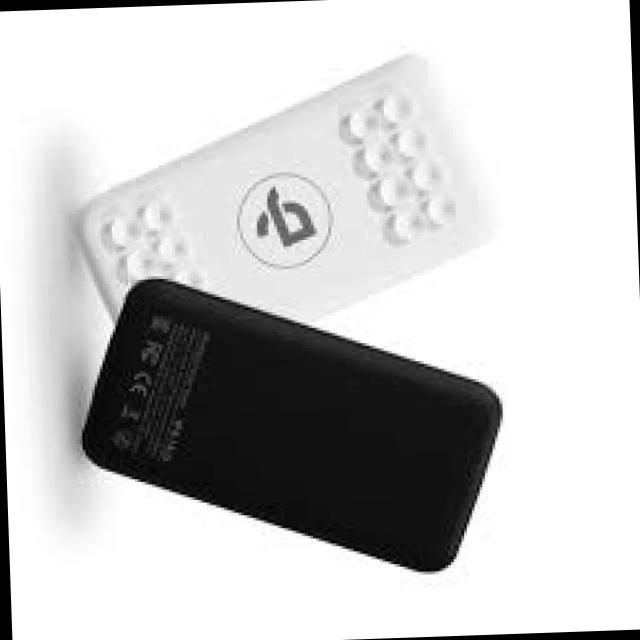portable-charger: (70, 44, 508, 401), (71, 264, 514, 590)
